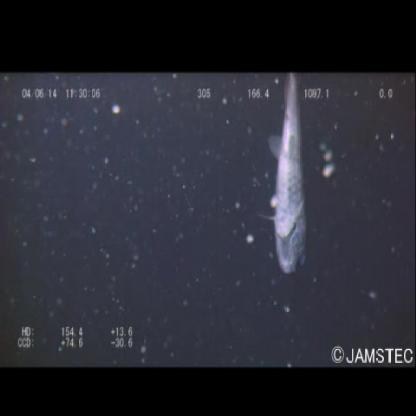Bio: (254, 73, 311, 283)
